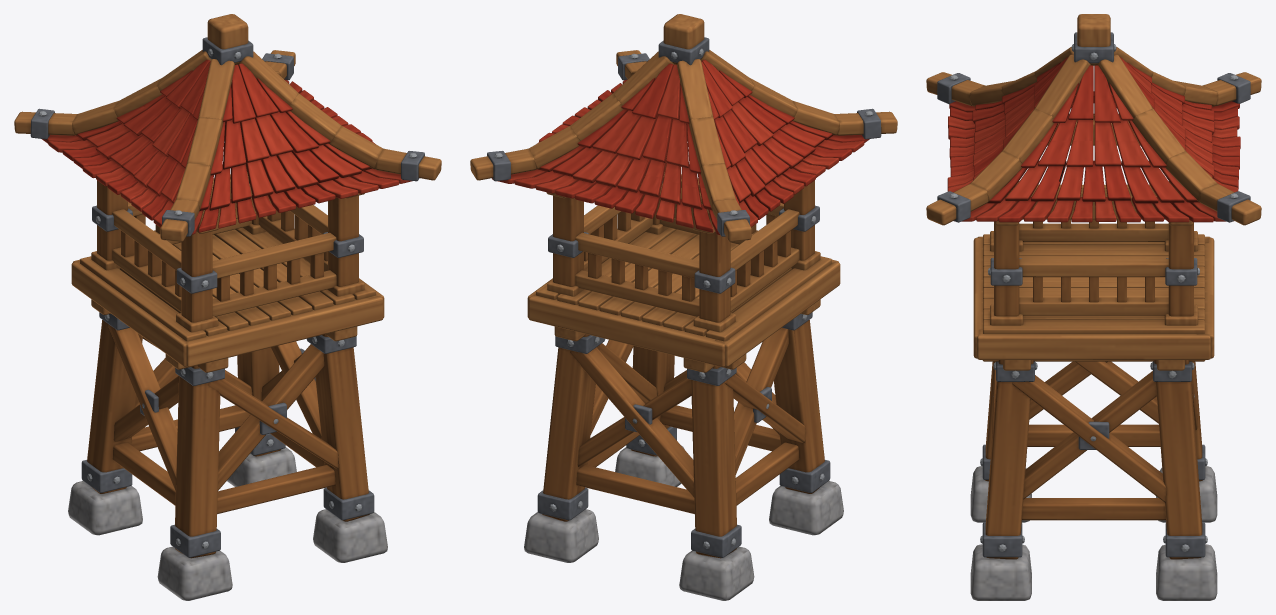
The model's file is RapidWatchtower.fbx.
3 views of the same model, side by side, from view 1: azimuth 30°, elevation 25°; view 2: azimuth 150°, elevation 25°; view 3: azimuth 270°, elevation 25° (orthographic). The views are drawn at different scales.
Visible parts, largest first — view 1: Rapid Watchtower R2; view 2: Rapid Watchtower R2; view 3: Rapid Watchtower R2.
Part boxes in pixels (bbox=[...]): Rapid Watchtower R2: bbox=[14, 14, 441, 600]; Rapid Watchtower R2: bbox=[470, 14, 897, 600]; Rapid Watchtower R2: bbox=[926, 14, 1261, 600].
Bounding box in the file's own units: 1.13 × 1.98 × 1.13.
Materials: 1 (1 with a texture image).
